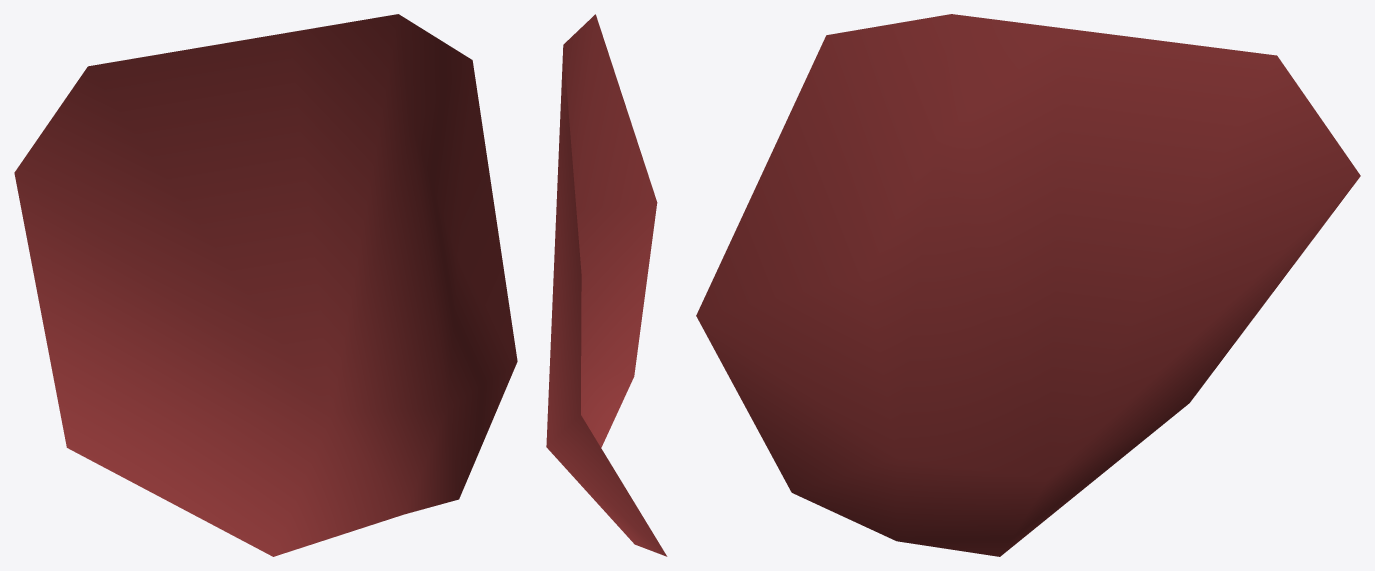
Rendered from adductor-pollicis-e1r.glb.
3 views of the same model, side by side, from view 1: azimuth 30°, elevation 25°; view 2: azimuth 150°, elevation 25°; view 3: azimuth 270°, elevation 25° (orthographic). The views are drawn at different scales.
Parts seen in each view (by area): view 1: Adductor pollicis.e1r; view 2: Adductor pollicis.e1r; view 3: Adductor pollicis.e1r.
Part boxes in pixels (x1=…): Adductor pollicis.e1r: x1=14, y1=14, x2=517, y2=556; Adductor pollicis.e1r: x1=546, y1=14, x2=667, y2=556; Adductor pollicis.e1r: x1=696, y1=14, x2=1360, y2=556.
Bounding box in the file's own units: 0.00203 × 0.00412 × 0.00414.
